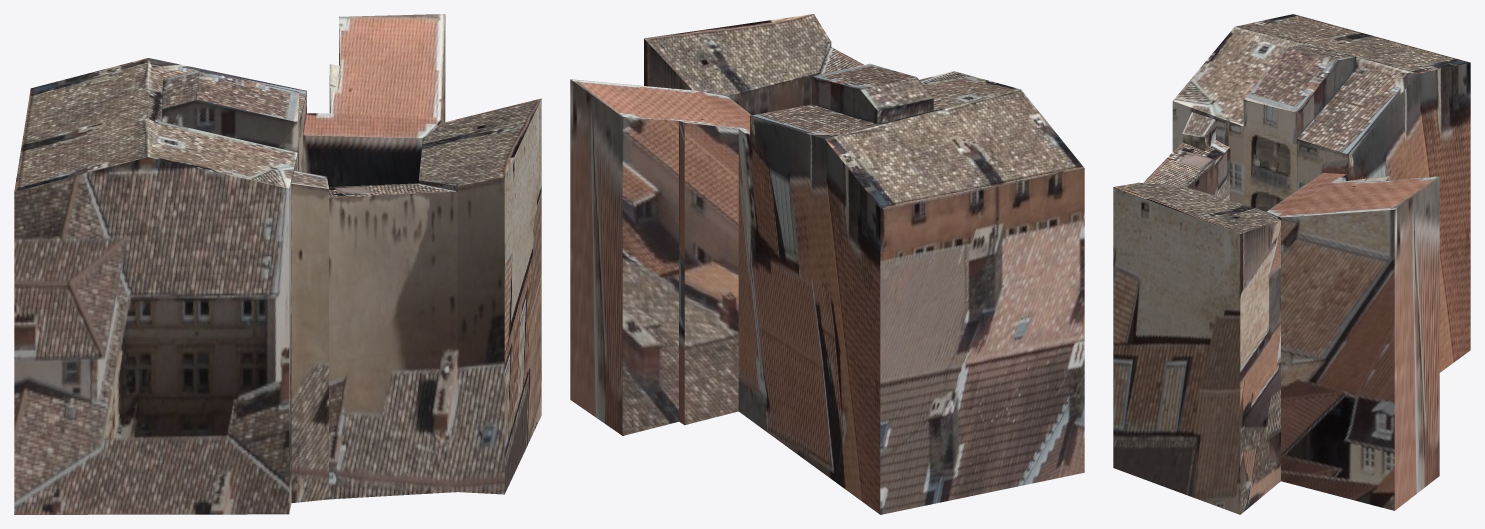
3 views of the same model, side by side, from view 1: azimuth 30°, elevation 25°; view 2: azimuth 150°, elevation 25°; view 3: azimuth 270°, elevation 25° (orthographic). The views are drawn at different scales.
Parts seen in each view (by area): view 1: Z_UP; view 2: Z_UP; view 3: Z_UP.
Part boxes in pixels (x1=…): Z_UP: x1=14, y1=14, x2=541, y2=514; Z_UP: x1=570, y1=14, x2=1084, y2=514; Z_UP: x1=1113, y1=14, x2=1470, y2=514.
Size of the model in its own units: 31.66 by 22.74 by 22.24.
Materials: 2 (1 with a texture image).
